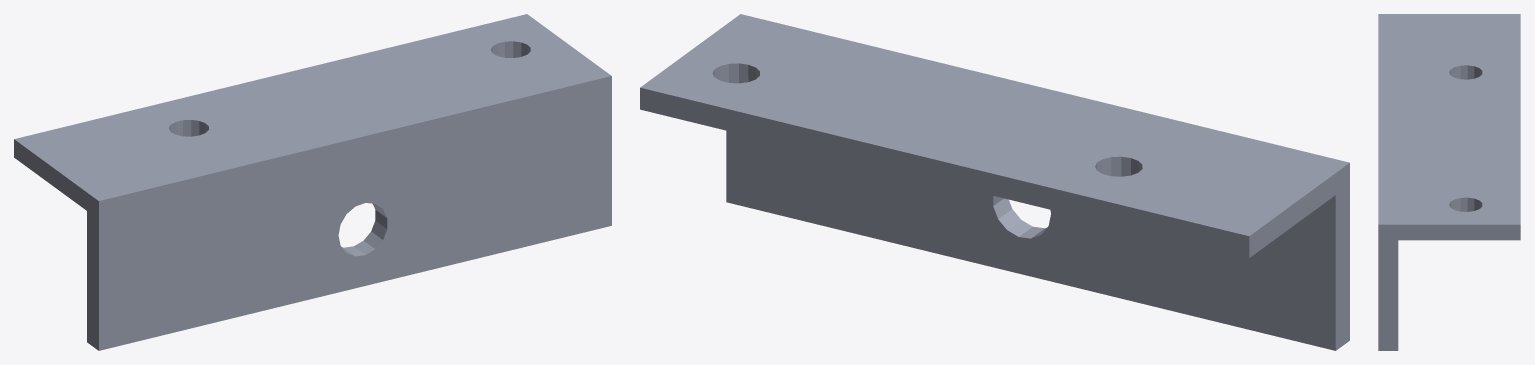
File: RightRoofRail.glb
3 views of the same model, side by side, from view 1: azimuth 30°, elevation 25°; view 2: azimuth 150°, elevation 25°; view 3: azimuth 270°, elevation 25° (orthographic). The views are drawn at different scales.
Visible parts, largest first — view 1: RightRoofRail; view 2: RightRoofRail; view 3: RightRoofRail.
Boxes of the visible parts, x1,y1,x2,y2 form: RightRoofRail: (14,14,611,350); RightRoofRail: (640,14,1349,350); RightRoofRail: (1378,14,1520,350).
Bounding box in the file's own units: 2.03 × 0.5663 × 0.5803.
1 material, 1 textured.
